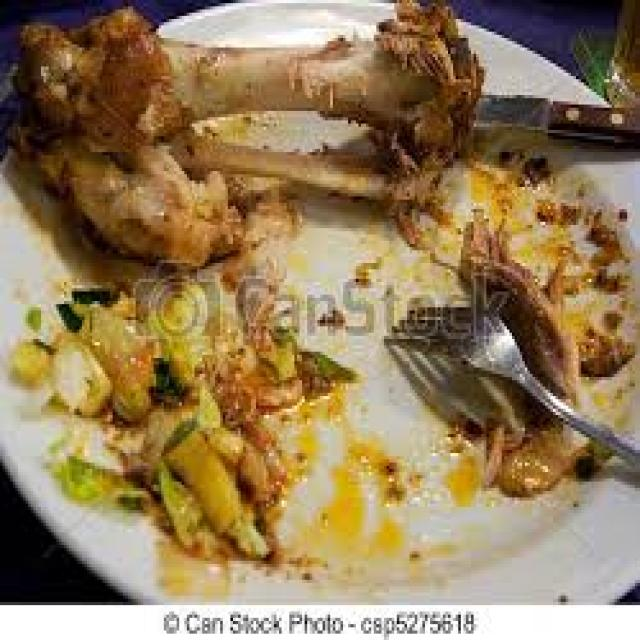food_waste: (10, 0, 481, 554), (458, 219, 576, 396), (481, 421, 584, 491)
